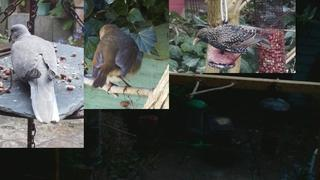collared dove: (8, 24, 60, 124)
robin: (91, 24, 145, 95)
starling: (193, 24, 272, 54)
